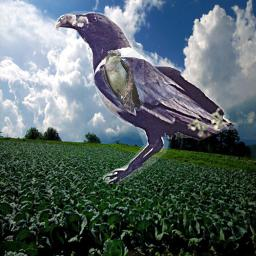Crow: (54, 11, 239, 184)
Swallow: (102, 50, 144, 113)
